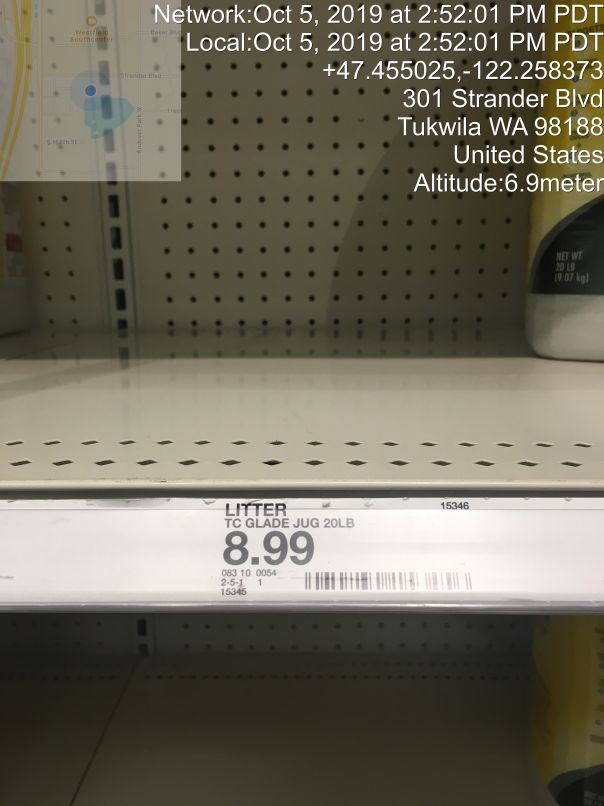Label: (216, 498, 495, 607)
Location: (395, 85, 601, 167)
Time: (149, 2, 604, 56)
Void: (16, 94, 523, 452)
